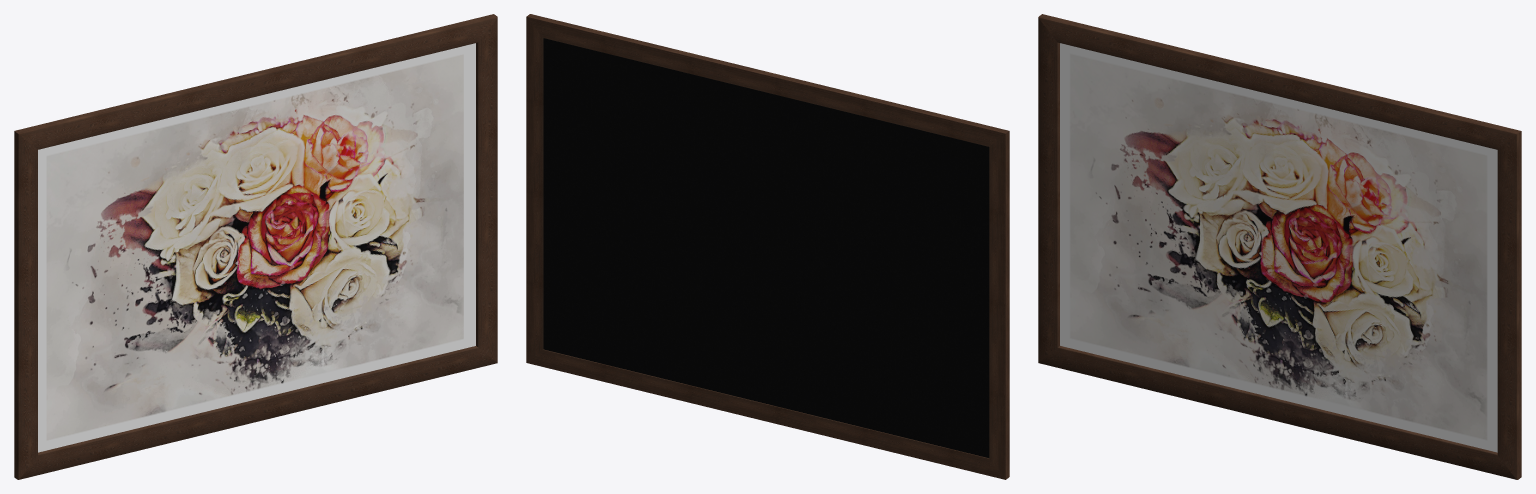
Rendered from Picture02_4.FBX.
The picture shows the model from 3 angles, left to right: view 1: azimuth 30°, elevation 25°; view 2: azimuth 150°, elevation 25°; view 3: azimuth 330°, elevation 25°; orthographic projection.
Parts seen in each view (by area): view 1: Picture02_4; view 2: Picture02_4; view 3: Picture02_4.
Part boxes in pixels (box(x1,y1,x2,y2)): Picture02_4: box(14, 14, 497, 479); Picture02_4: box(526, 14, 1009, 479); Picture02_4: box(1038, 14, 1521, 479).
Size of the model in its own units: 958 by 661 by 15.33.
